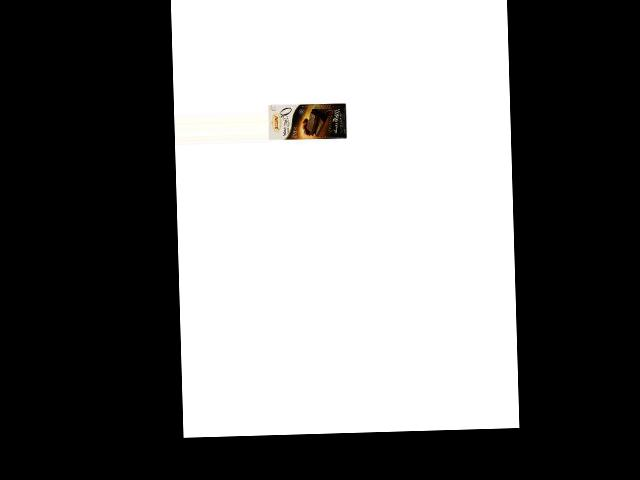chocolate: (268, 100, 347, 142)
